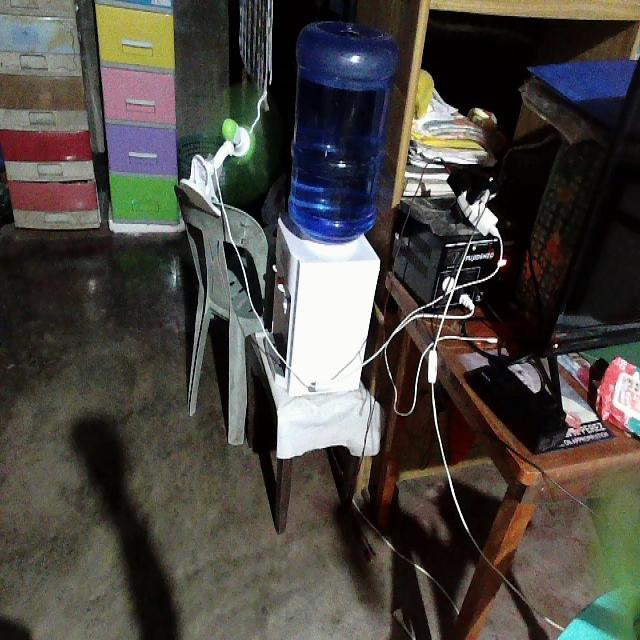-: (444, 157, 501, 239)
